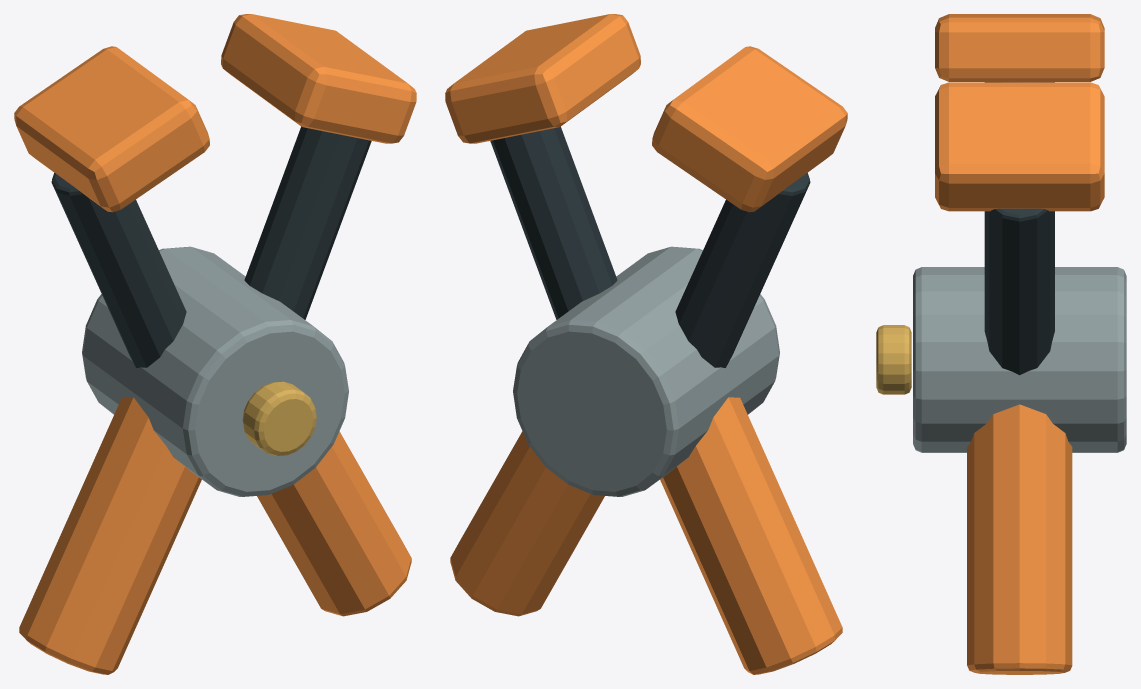
The model's file is P080_spring_clamp.glb.
3 renders of one model, left to right at view 1: azimuth 30°, elevation 25°; view 2: azimuth 150°, elevation 25°; view 3: azimuth 270°, elevation 25°, orthographic. The views are drawn at different scales.
Visible parts, largest first — view 1: P080_hinge_007, P080_handle_001, P080_pad_003, P080_pad_006, P080_handle_004, P080_jaw_005, P080_jaw_002, P080_pin_008; view 2: P080_hinge_007, P080_handle_001, P080_pad_003, P080_pad_006, P080_handle_004, P080_jaw_005, P080_jaw_002; view 3: P080_hinge_007, P080_handle_004, P080_pad_006, P080_pad_003, P080_jaw_005, P080_pin_008.
Part boxes in pixels (bbox=[...]): P080_hinge_007: bbox=[82, 246, 348, 496]; P080_handle_001: bbox=[19, 397, 201, 674]; P080_pad_003: bbox=[14, 46, 209, 212]; P080_pad_006: bbox=[221, 14, 416, 143]; P080_handle_004: bbox=[257, 431, 411, 616]; P080_jaw_005: bbox=[244, 126, 371, 319]; P080_jaw_002: bbox=[51, 172, 186, 367]; P080_pin_008: bbox=[242, 381, 316, 455]; P080_hinge_007: bbox=[513, 246, 779, 496]; P080_handle_001: bbox=[660, 397, 842, 674]; P080_pad_003: bbox=[652, 46, 847, 212]; P080_pad_006: bbox=[445, 14, 640, 143]; P080_handle_004: bbox=[450, 431, 604, 616]; P080_jaw_005: bbox=[490, 126, 617, 319]; P080_jaw_002: bbox=[675, 172, 810, 367]; P080_hinge_007: bbox=[913, 267, 1126, 452]; P080_handle_004: bbox=[967, 404, 1072, 674]; P080_pad_006: bbox=[935, 82, 1104, 211]; P080_pad_003: bbox=[935, 14, 1104, 81]; P080_jaw_005: bbox=[984, 208, 1054, 375]; P080_pin_008: bbox=[876, 325, 911, 394].
Bounding box in the file's own units: 0.1459 × 0.2144 × 0.0855.
